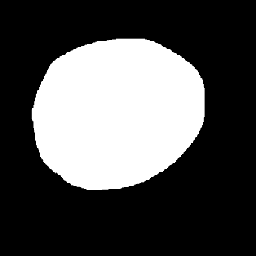mass: (32, 43, 199, 188)
